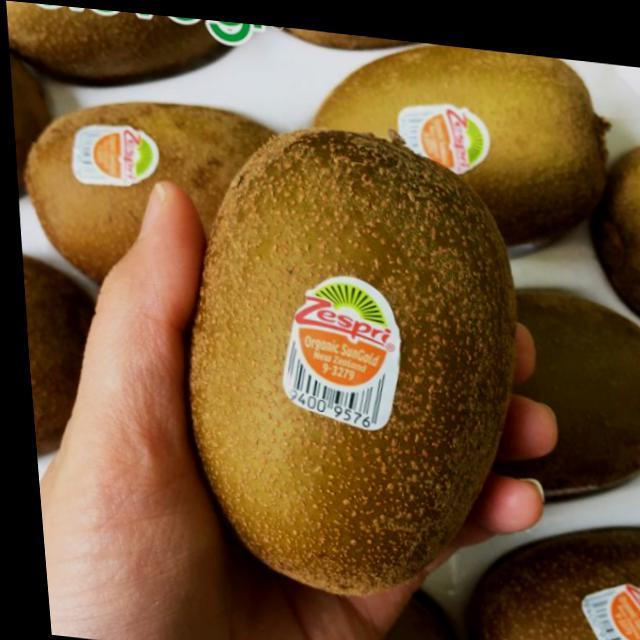kiwi: (156, 105, 536, 622), (298, 25, 617, 226), (21, 83, 292, 294), (469, 514, 640, 640)
